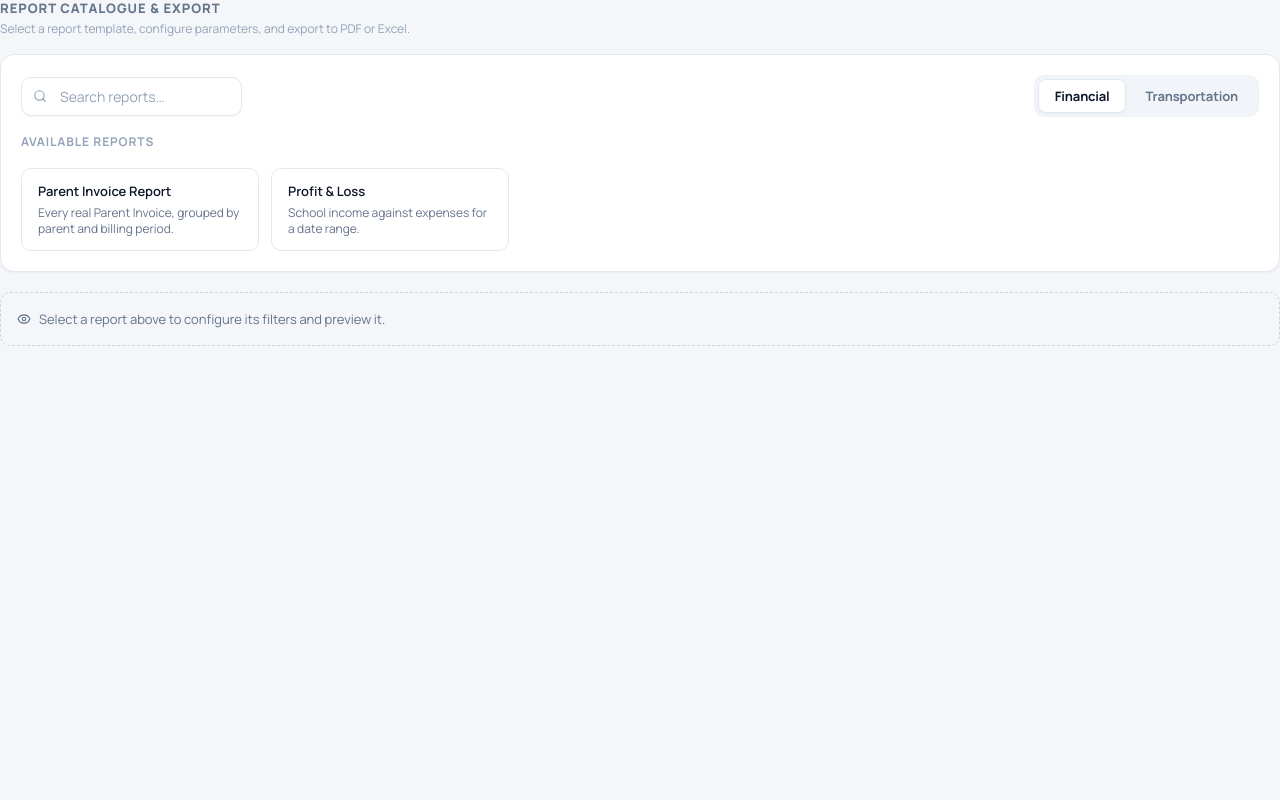
Test: ReportsPage — organization Report Center › switching reports resets filters and clears the previous preview
Click the text "Parent Invoice Report". click: (105, 191)
box: 38,181 -> 171,201
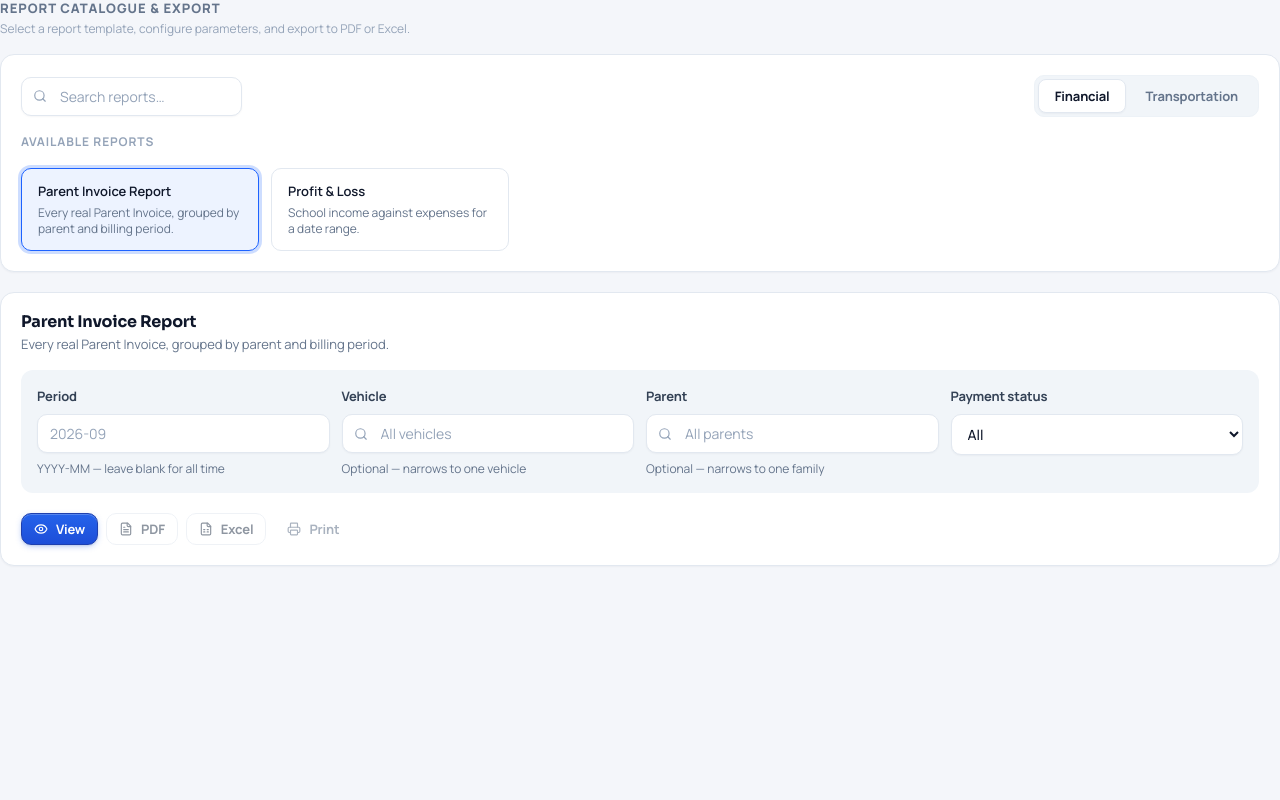
Click the button "View". click: (60, 530)
box: 21,514 -> 98,546
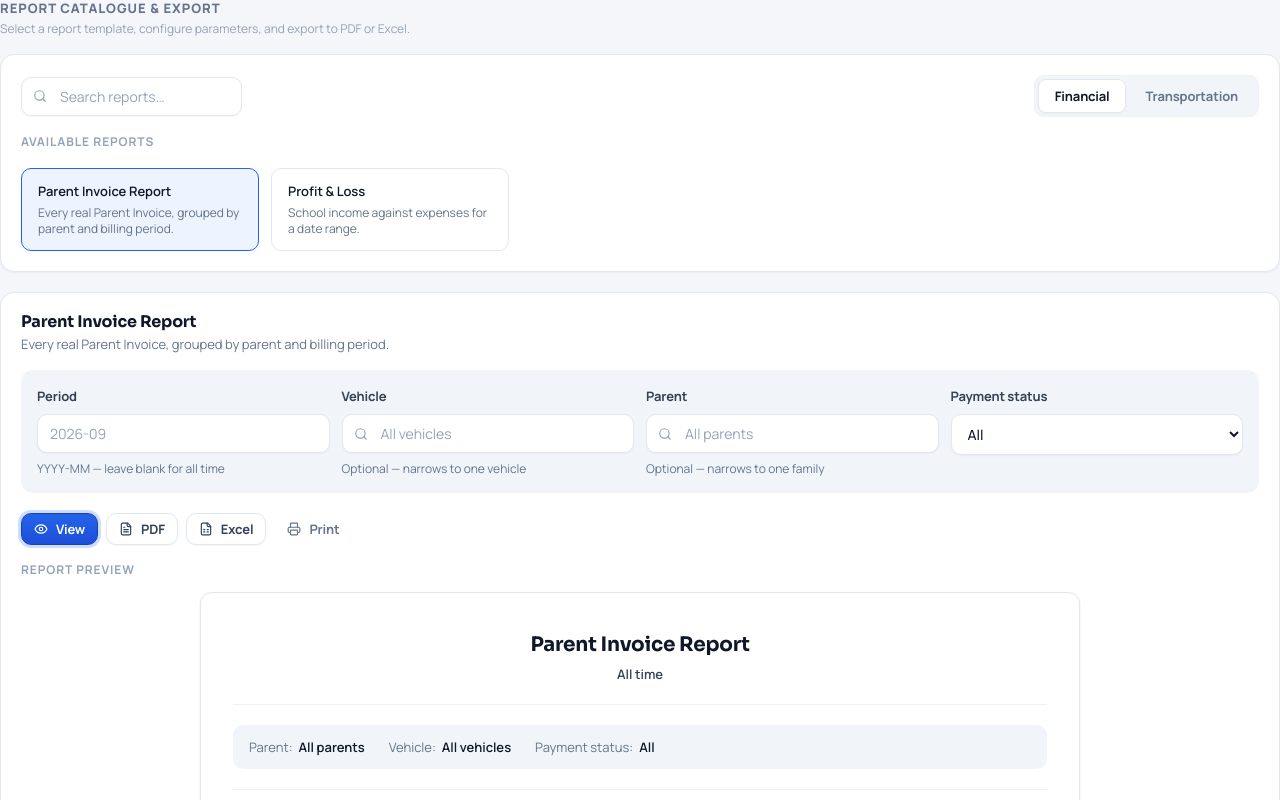
Click the text "Profit & Loss". click: (327, 191)
box: 288,181 -> 365,201
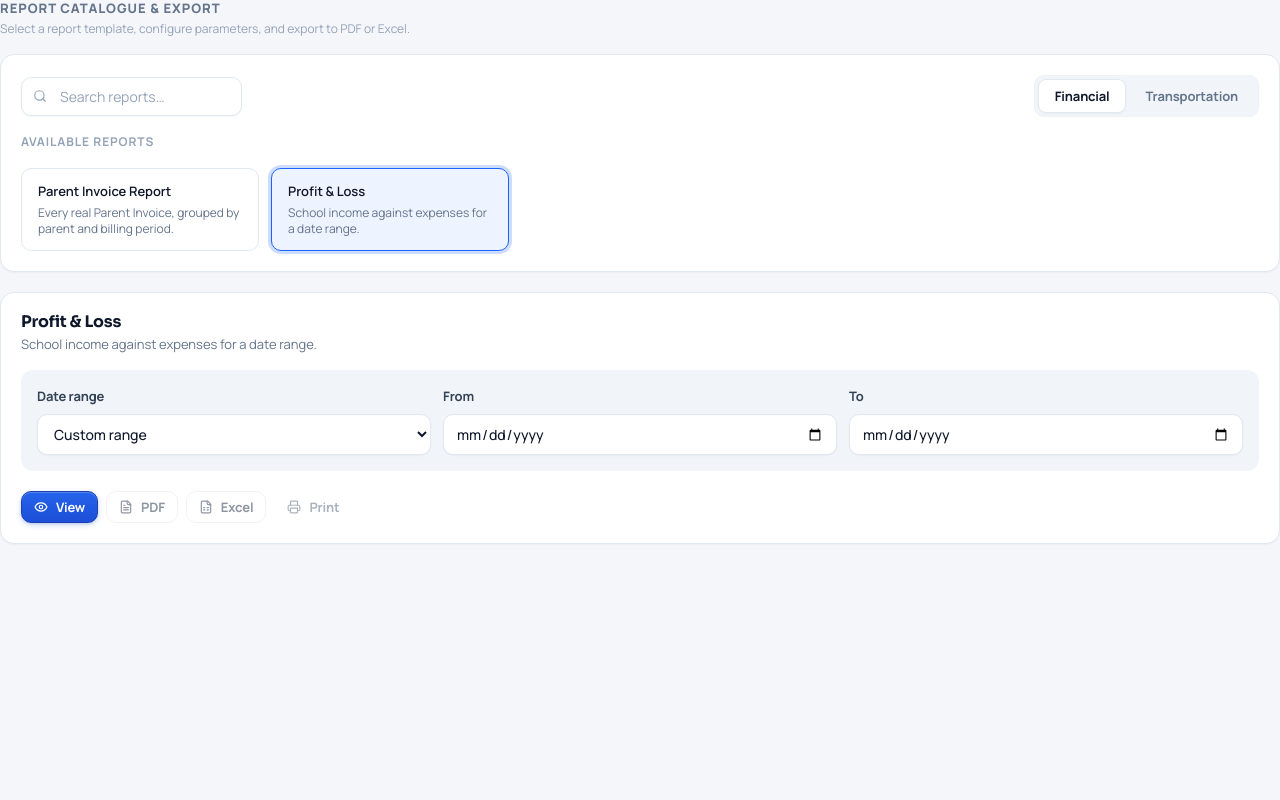
Result: the text labelled "Payment status" is gone
